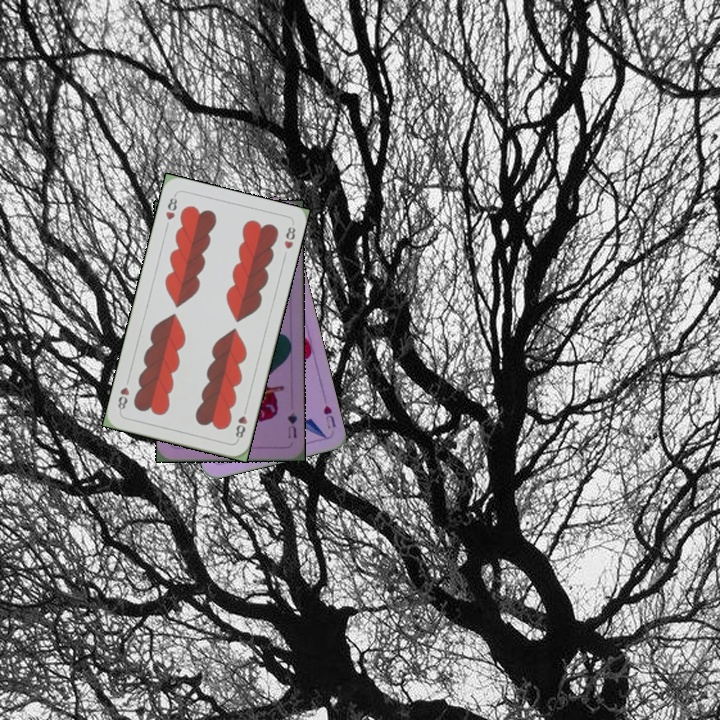GU: (283, 408, 300, 441)
H8: (231, 403, 250, 443), (161, 191, 180, 223)
HU: (319, 401, 338, 431)
